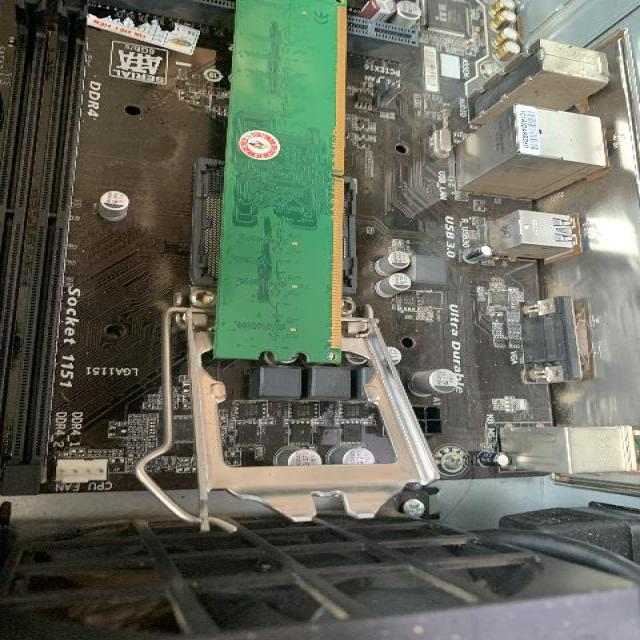Mainboard: (0, 0, 640, 506)
RAM: (216, 0, 352, 363)
